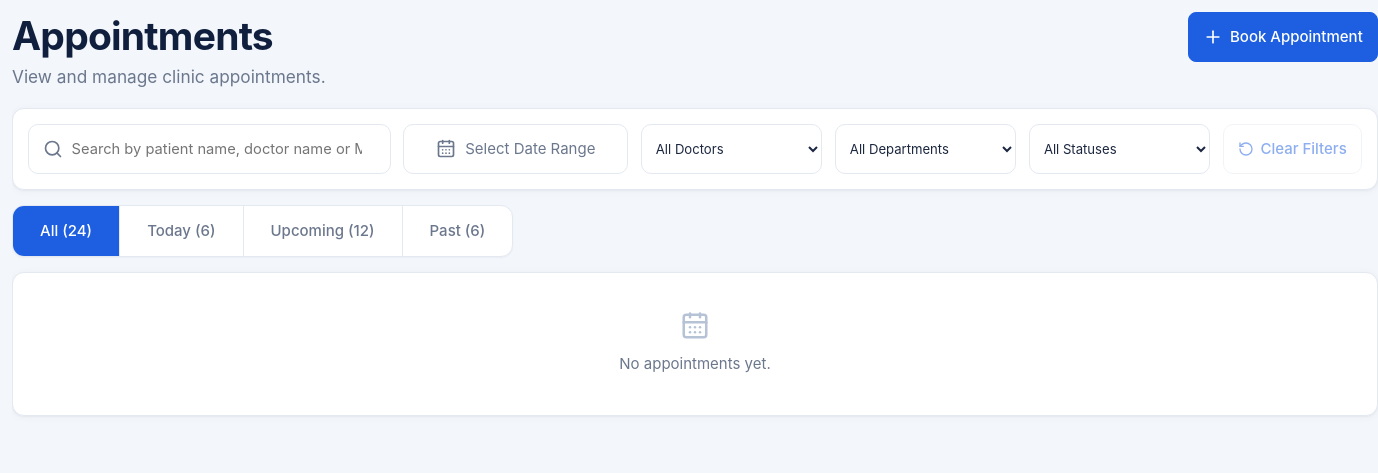
Test case: staff Appointments › tells an empty list from no matches
The image size is (1378, 473).
Expected: the text "No appointments yet." is shown, [619,354,771,373]
Select "No-show" in the 3rd dropdown named "Status" at (1120, 149), box [1029,124,1210,174]
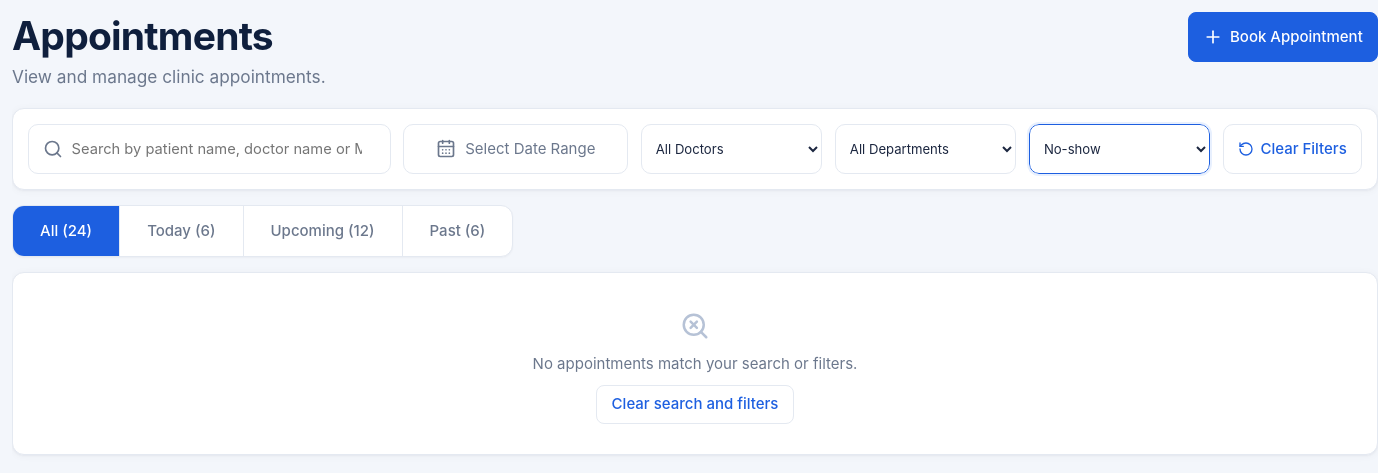
Expected: the text "No appointments match your search or filters." is shown, [533,354,857,373]
